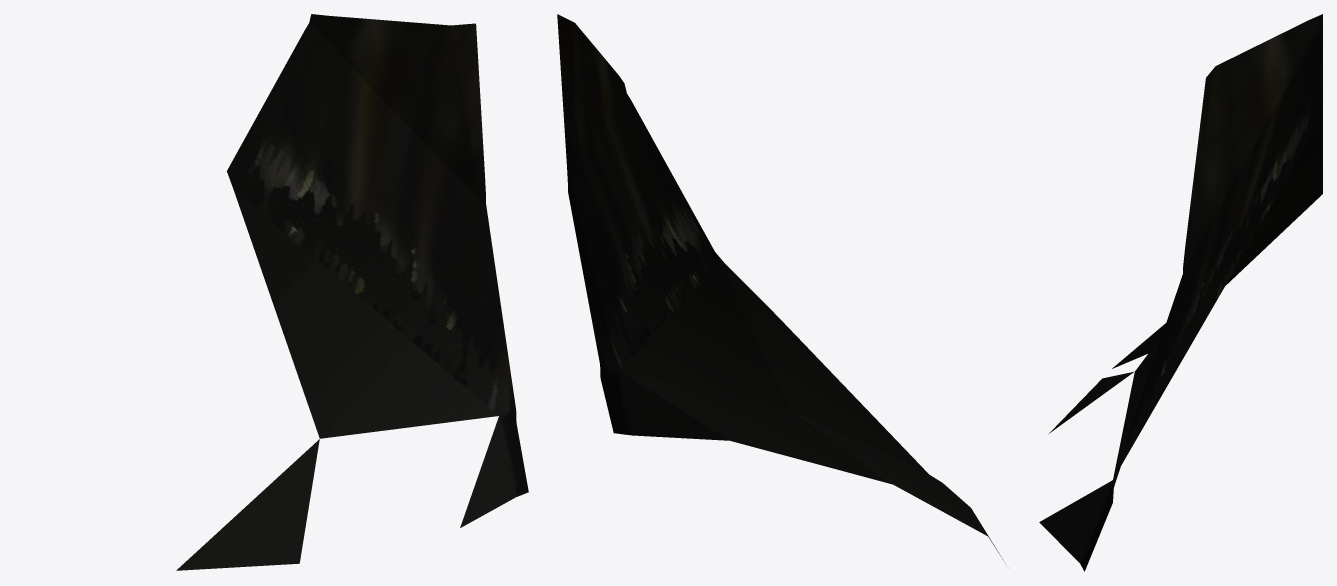
The picture shows the model from 3 angles, left to right: view 1: azimuth 30°, elevation 25°; view 2: azimuth 150°, elevation 25°; view 3: azimuth 270°, elevation 25°; orthographic projection. The views are drawn at different scales.
Size of the model in its own units: 0.8373 by 0.8374 by 0.4357.
3 materials, 3 textured.
